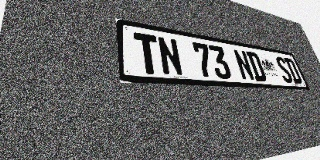3: (208, 45, 232, 79)
7: (191, 42, 216, 78)
D: (245, 51, 268, 82), (283, 57, 303, 84)
N: (157, 36, 184, 76), (232, 49, 256, 81)
S: (274, 56, 294, 83)
T: (133, 32, 162, 75)
